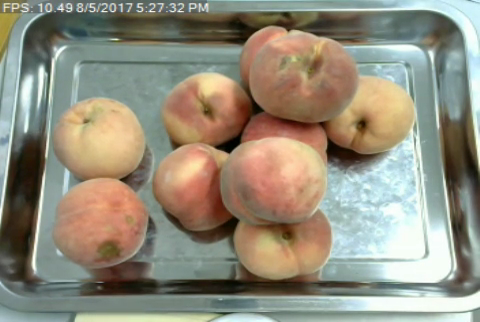Peach: (249, 32, 357, 121), (220, 136, 326, 225), (52, 176, 148, 268), (53, 95, 146, 181), (322, 75, 415, 154), (233, 207, 333, 280), (154, 142, 233, 231), (162, 70, 252, 147)
